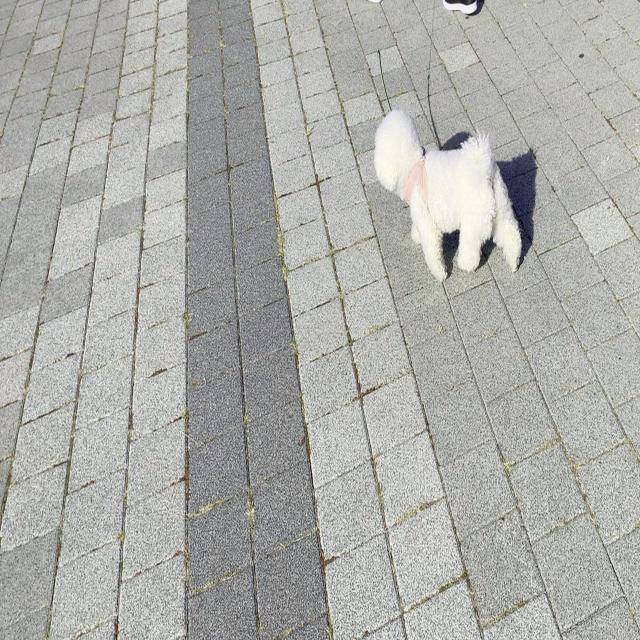Dog: (372, 100, 524, 286)
